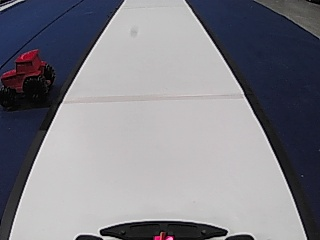Tracktor: (0, 45, 57, 110)
